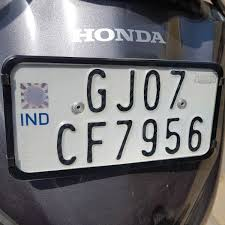doublelinenumberplate: (3, 56, 223, 177)
